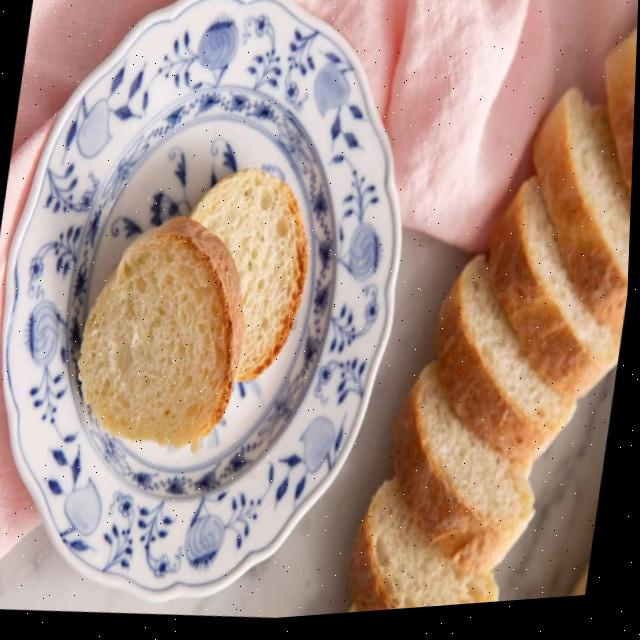Bread: (80, 219, 245, 452), (489, 184, 625, 407), (396, 368, 538, 580), (438, 263, 579, 471), (191, 172, 310, 386), (533, 97, 633, 337), (353, 485, 502, 618)
